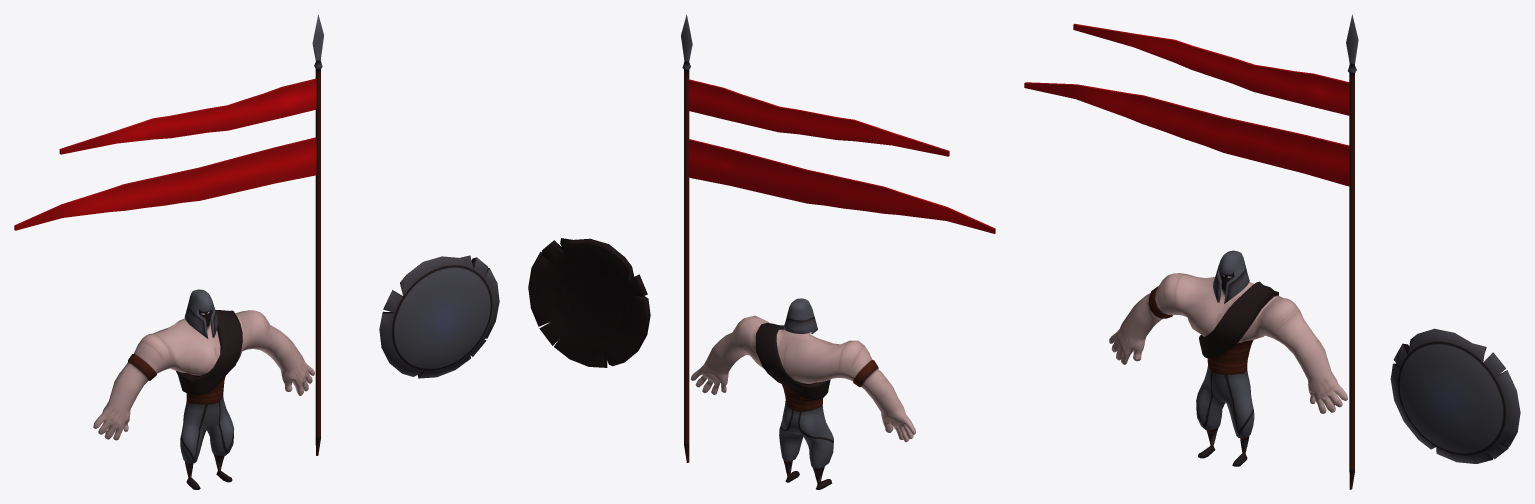
File: Character_Zname_Shtit_01_GE.fbx
3 renders of one model, left to right at view 1: azimuth 30°, elevation 25°; view 2: azimuth 150°, elevation 25°; view 3: azimuth 330°, elevation 25°, orthographic. The views are drawn at different scales.
Parts seen in each view (by area): view 1: Zname_Kopie, Character_Znamenosec, Shtit; view 2: Zname_Kopie, Character_Znamenosec, Shtit; view 3: Zname_Kopie, Character_Znamenosec, Shtit.
Part boxes in pixels (left/top/right/bottom): Zname_Kopie: left=14, top=15, right=323, bottom=455; Character_Znamenosec: left=93, top=289, right=314, bottom=489; Shtit: left=379, top=255, right=499, bottom=378; Zname_Kopie: left=681, top=14, right=995, bottom=462; Character_Znamenosec: left=690, top=298, right=915, bottom=489; Shtit: left=528, top=238, right=650, bottom=367; Zname_Kopie: left=1024, top=14, right=1358, bottom=489; Character_Znamenosec: left=1109, top=250, right=1347, bottom=466; Shtit: left=1390, top=328, right=1520, bottom=463.
Size of the model in its own units: 466 by 416 by 65.74.
Materials: 1 (1 with a texture image).
